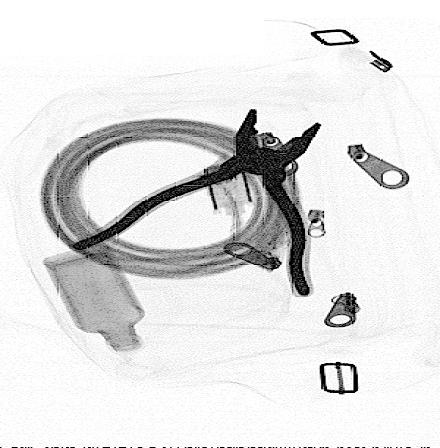Pliers: (68, 107, 326, 297)
